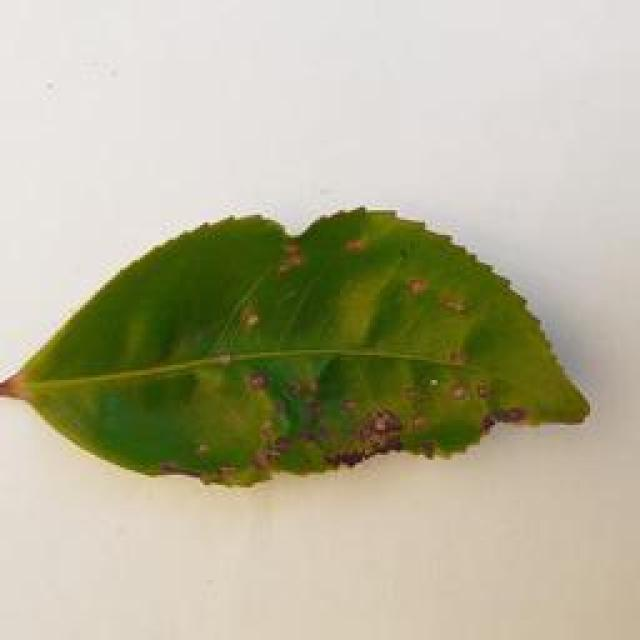Helopeltis: (0, 200, 620, 485)
